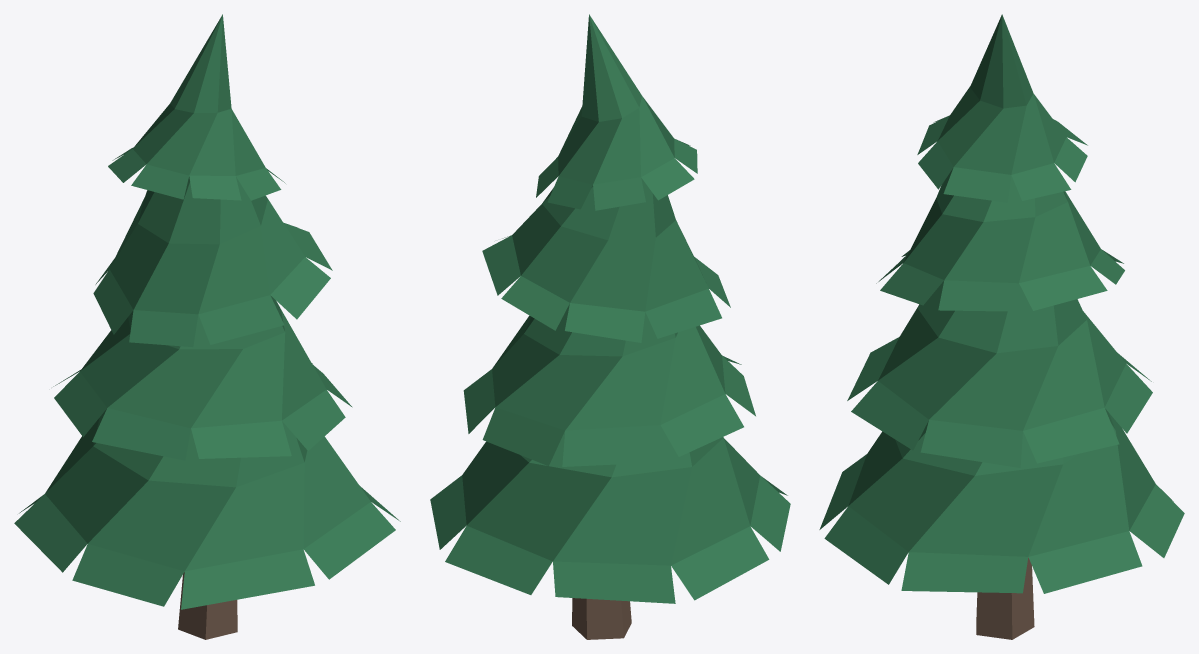
Rendered from pino1.fbx.
3 views of the same model, side by side, from view 1: azimuth 30°, elevation 25°; view 2: azimuth 150°, elevation 25°; view 3: azimuth 270°, elevation 25° (orthographic).
Parts seen in each view (by area): view 1: pino_1:Mesh; view 2: pino_1:Mesh; view 3: pino_1:Mesh.
Boxes of the visible parts, <box> form: pino_1:Mesh: <box>14,14,400,639</box>; pino_1:Mesh: <box>430,14,790,639</box>; pino_1:Mesh: <box>819,14,1184,639</box>.
Size of the model in its own units: 6.58 by 12.41 by 6.63.
Materials: 1 (1 with a texture image).
